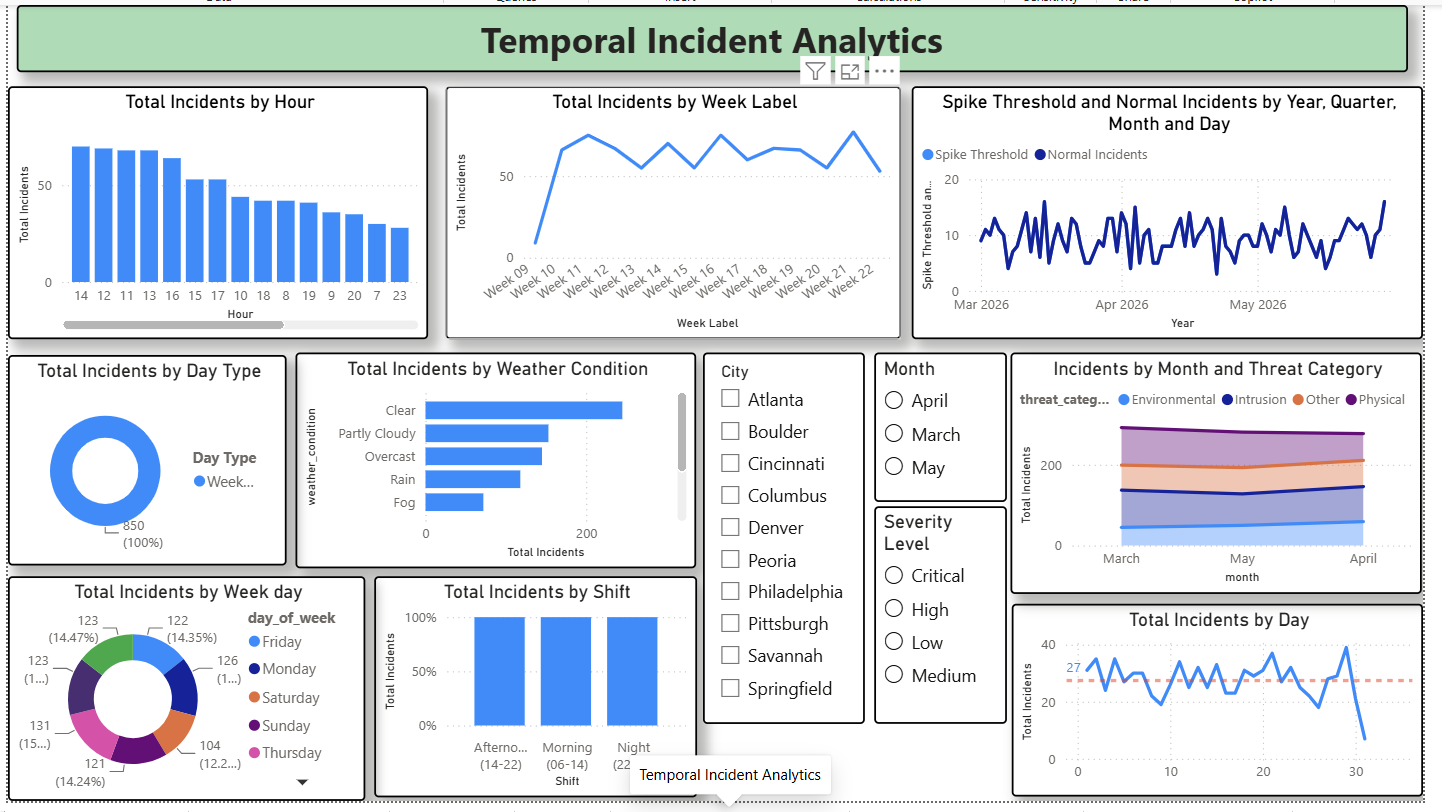

The page's visual inventory and layout, read from the dashboard file:
{"tool":"powerbi","page":{"name":"Temporal Incident Analytics","canvas":[1280,720],"ordinal":4},"visuals":[{"type":"textbox","box":[8.1,0,1258.1,60.5],"z":0},{"type":"columnChart","fields":{"Category":["fact_incident.Hour"],"Y":["_Measures.Total Incidents"]},"box":[0,73.3,380.2,229.1],"z":1000},{"type":"lineChart","fields":{"Y":["_Measures.Total Incidents"],"Category":["dim_date.Week Label"]},"box":[395.3,73.3,411.6,229.1],"z":2000},{"type":"lineChart","fields":{"Category":["dim_date.date.Variation.Date Hierarchy.Day"],"Y":["_Measures.Total Incidents"]},"box":[908.1,541.9,372.1,174.4],"z":3000},{"type":"clusteredBarChart","title":"Total Incidents by Weather Condition","fields":{"Y":["_Measures.Total Incidents"],"Category":["fact_incident.weather_condition"]},"box":[260.5,314,362.8,195.3],"z":4000},{"type":"hundredPercentStackedColumnChart","fields":{"Category":["fact_incident.Shift"],"Y":["_Measures.Total Incidents"]},"box":[331.4,516.3,291.9,200],"z":5000},{"type":"donutChart","fields":{"Y":["_Measures.Total Incidents"],"Category":["fact_incident.Day Type"]},"box":[0,316.3,252.3,190.7],"z":6000},{"type":"donutChart","title":"Total Incidents by Week day","fields":{"Y":["_Measures.Total Incidents"],"Series":["dim_date.day_of_week"]},"box":[0,516.3,323.3,203.5],"z":7000},{"type":"lineChart","fields":{"Y":["_Measures.Spike Threshold","_Measures.Normal Incidents"],"Category":["dim_date.date.Variation.Date Hierarchy.Year","dim_date.date.Variation.Date Hierarchy.Quarter","dim_date.date.Variation.Date Hierarchy.Month","dim_date.date.Variation.Date Hierarchy.Day"]},"box":[817.4,73.3,462.8,229.1],"z":8000},{"type":"stackedAreaChart","title":"Incidents by Month and Threat Category","fields":{"Category":["dim_date.month"],"Y":["_Measures.Total Incidents"],"Series":["dim_threat_type.threat_category"]},"box":[907,314,372.1,218.6],"z":9000},{"type":"listSlicer","fields":{"Values":["fact_incident.severity_level"]},"box":[783.7,453.5,119.8,196.5],"z":10000},{"type":"slicer","title":"City","fields":{"Values":["dim_location.city"]},"box":[629.1,314,146.5,336],"z":11000},{"type":"listSlicer","fields":{"Values":["dim_date.month"]},"box":[783.7,314,119.8,134.9],"z":12000}]}

Visuals, with their boxes in screenshot pixels (x1, y1, x2, y2):
textbox: [9, 0, 1407, 67]
columnChart - fact_incident.Hour x _Measures.Total Incidents: [0, 81, 422, 336]
lineChart - _Measures.Total Incidents x dim_date.Week Label: [439, 81, 896, 336]
lineChart - dim_date.date.Variation.Date Hierarchy.Day x _Measures.Total Incidents: [1009, 602, 1422, 796]
"Total Incidents by Weather Condition" clusteredBarChart: [289, 349, 692, 566]
hundredPercentStackedColumnChart - fact_incident.Shift x _Measures.Total Incidents: [368, 574, 692, 796]
donutChart - _Measures.Total Incidents x fact_incident.Day Type: [0, 351, 280, 563]
"Total Incidents by Week day" donutChart: [0, 574, 359, 800]
lineChart - _Measures.Spike Threshold x _Measures.Normal Incidents: [908, 81, 1422, 336]
"Incidents by Month and Threat Category" stackedAreaChart: [1008, 349, 1421, 592]
listSlicer - fact_incident.severity_level: [871, 504, 1004, 722]
"City" slicer: [699, 349, 862, 722]
listSlicer - dim_date.month: [871, 349, 1004, 499]
